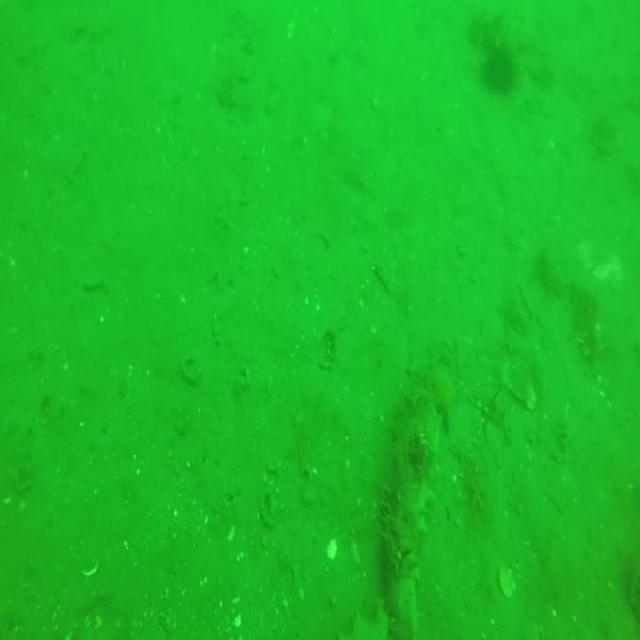echinus: (480, 48, 518, 100)
holothurian: (387, 352, 456, 640)
scallop: (498, 564, 514, 597), (326, 540, 338, 560)
